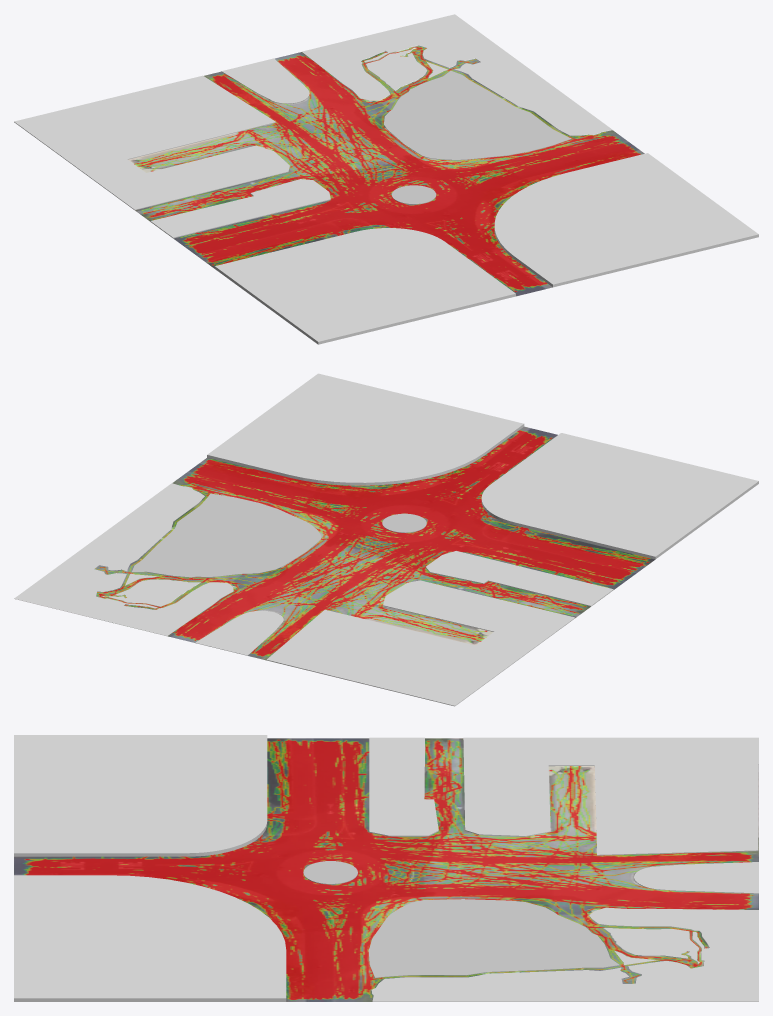
Rendered from Map3.fbx.
3 views of the same model, one above another, from view 1: azimuth 30°, elevation 25°; view 2: azimuth 150°, elevation 25°; view 3: azimuth 270°, elevation 25° (orthographic). The views are drawn at different scales.
Parts seen in each view (by area): view 1: ref.001, 平面.002, 平面.001, 平面.004, 平面, 平面.005, 平面.003, 平面.006, 平面.008, 圆环; view 2: ref.001, 平面.002, 平面.001, 平面.004, 平面, 平面.005, 平面.003, 平面.006, 平面.008, 圆环; view 3: ref.001, 平面.002, 平面.001, 平面.004, 平面, 平面.005, 平面.003, 平面.006, 平面.008, 圆环.
Boxes of the visible parts, x1=… form: ref.001: x1=128, y1=45, x2=644, y2=296; 平面.002: x1=494, y1=153, x2=758, y2=287; 平面.001: x1=214, y1=228, x2=515, y2=344; 平面.004: x1=14, y1=75, x2=289, y2=210; 平面: x1=302, y1=14, x2=612, y2=135; 平面.005: x1=383, y1=70, x2=571, y2=160; 平面.003: x1=150, y1=179, x2=330, y2=238; 平面.006: x1=221, y1=58, x2=309, y2=103; 平面.008: x1=365, y1=47, x2=427, y2=90; 圆环: x1=391, y1=185, x2=436, y2=204; ref.001: x1=15, y1=426, x2=654, y2=680; 平面.002: x1=207, y1=373, x2=524, y2=485; 平面.001: x1=481, y1=433, x2=758, y2=559; 平面.004: x1=266, y1=580, x2=575, y2=706; 平面: x1=14, y1=483, x2=233, y2=636; 平面.005: x1=132, y1=493, x2=321, y2=577; 平面.003: x1=425, y1=551, x2=613, y2=606; 平面.006: x1=195, y1=610, x2=283, y2=655; 平面.008: x1=102, y1=579, x2=200, y2=606; 圆环: x1=382, y1=513, x2=426, y2=532; ref.001: x1=14, y1=738, x2=758, y2=1001; 平面.002: x1=14, y1=875, x2=286, y2=1001; 平面.001: x1=14, y1=735, x2=267, y2=856; 平面.004: x1=463, y1=737, x2=758, y2=855; 平面: x1=371, y1=907, x2=758, y2=1001; 平面.005: x1=368, y1=899, x2=619, y2=978; 平面.003: x1=369, y1=737, x2=438, y2=836; 平面.006: x1=634, y1=862, x2=758, y2=893; 平面.008: x1=603, y1=928, x2=699, y2=963; 圆环: x1=303, y1=861, x2=357, y2=884.
Bounding box in the file's own units: 1631 × 1948 × 10.
